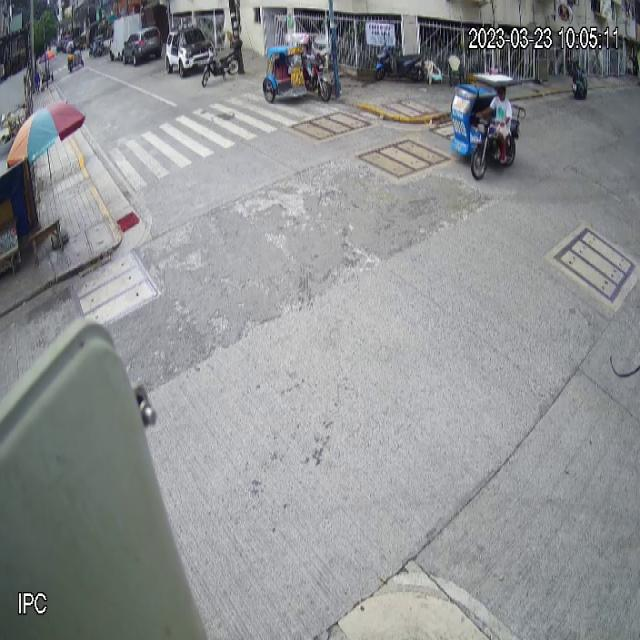Tricycle: (451, 72, 526, 181), (263, 32, 332, 103)
